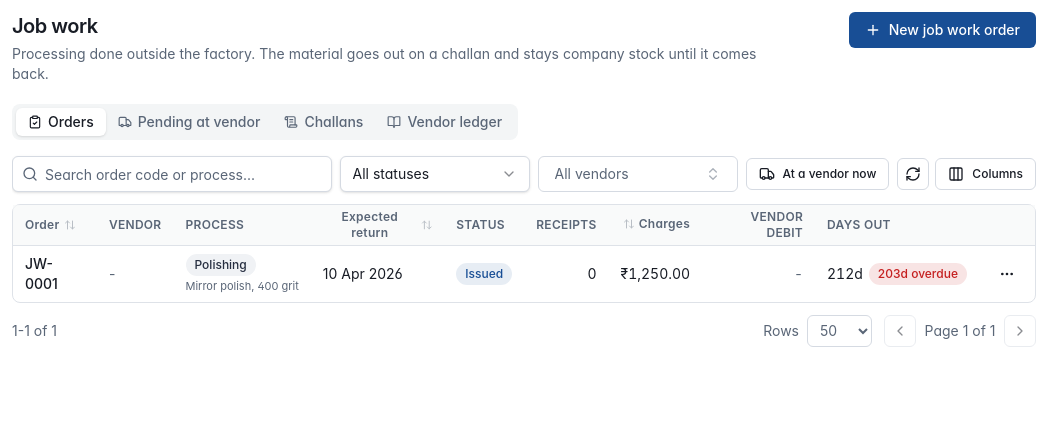
Scenario: what the lifecycle allows › offers issue and receive while the material is out, and no close and no cancel
Expected: the link "JW-0001" is shown, left=25, top=254, right=58, bottom=292
Click the button named "Actions for JW-0001": click(1007, 274) left=991, top=258, right=1023, bottom=290
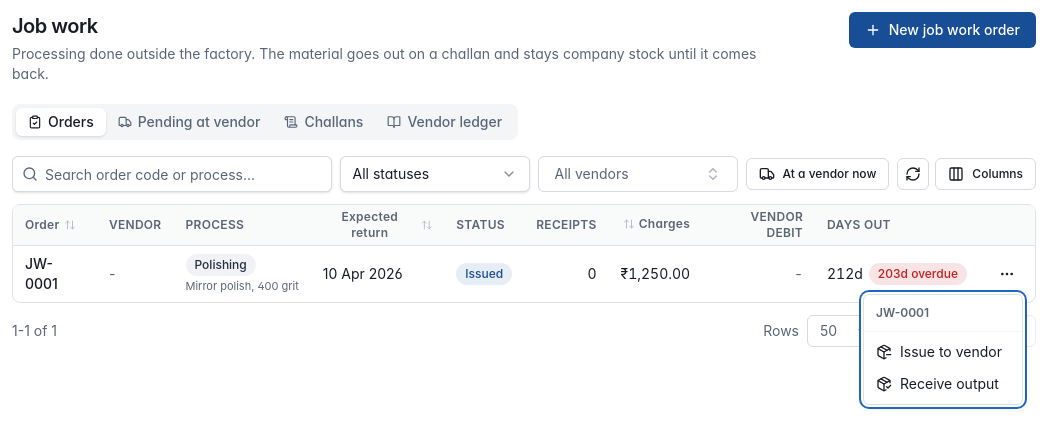
Expected: the menu is shown, left=863, top=294, right=1023, bottom=405
